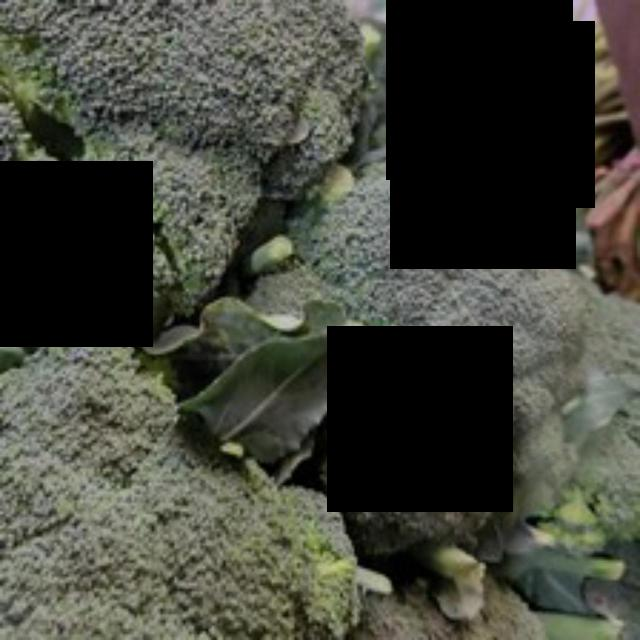broccoli: (0, 311, 357, 637)
